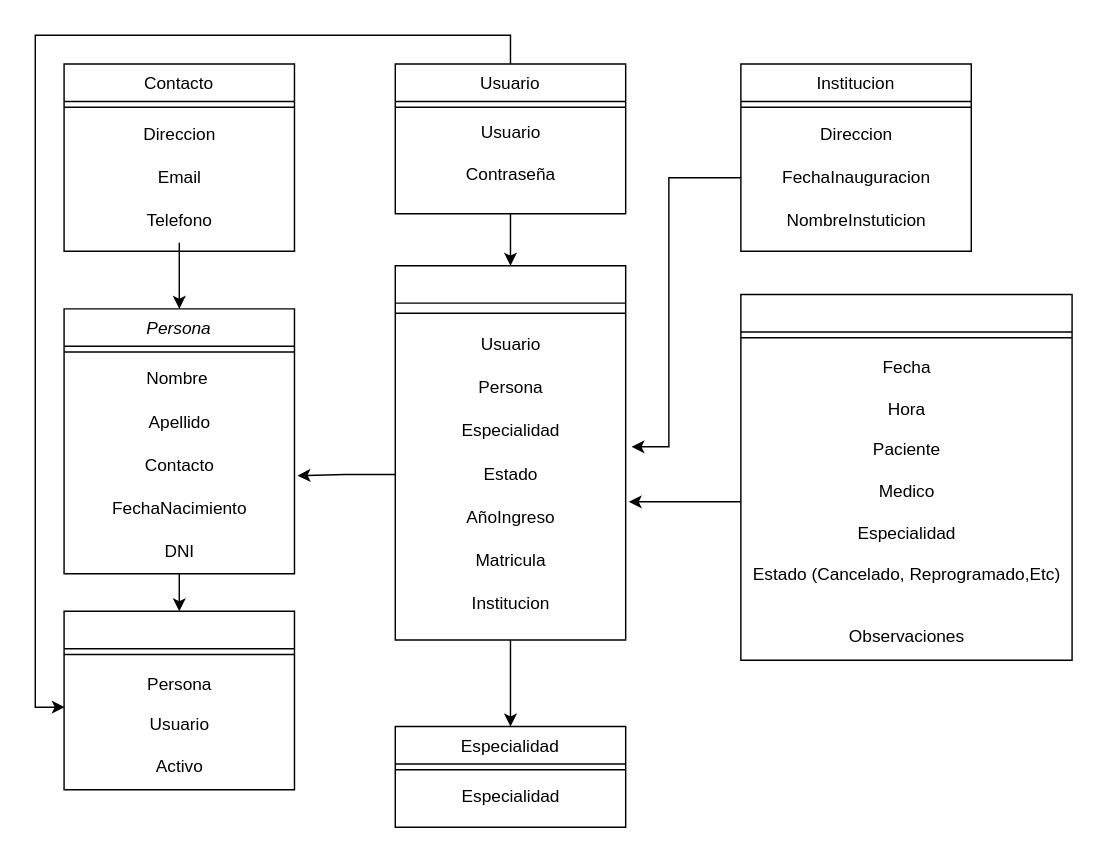
Image size: 1097x852. Some labels were removed from this diagram. The shapes that lost their labels are listed below. From the top down, each one's box as (x1, y1, x2, y2) in pixels, then its label:
(394, 264, 626, 640): Profesional
(739, 293, 1072, 660): Turno
(63, 610, 294, 790): Paciente
